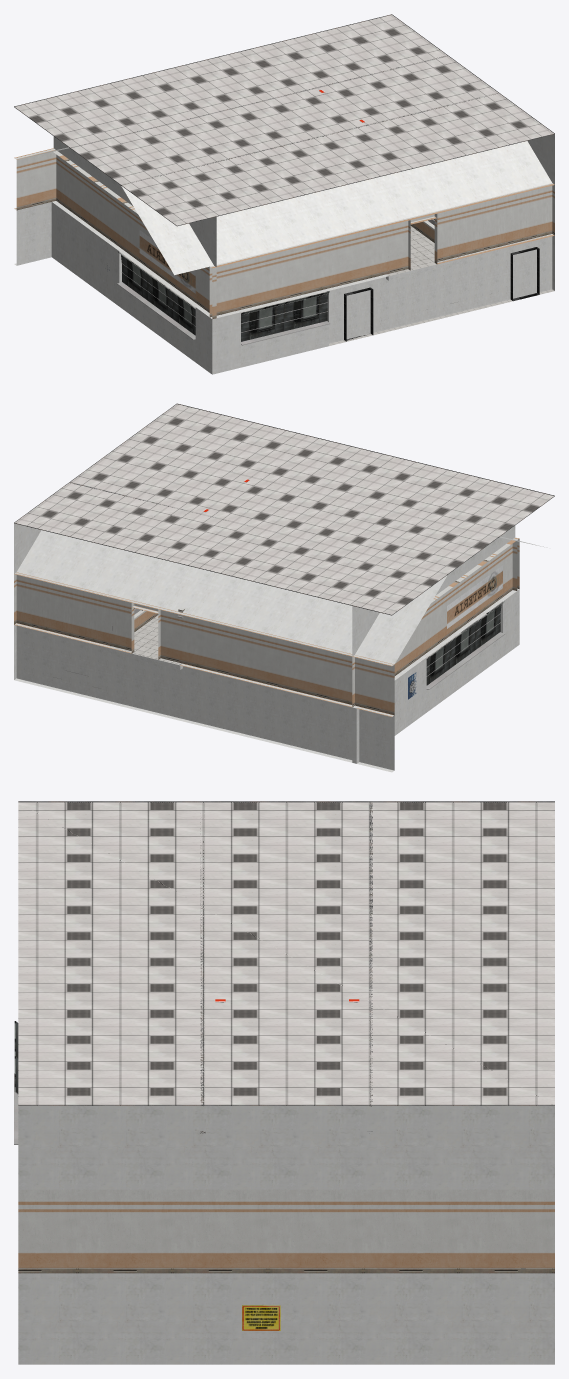
The model's file is Cafeteria.fbx.
The picture shows the model from 3 angles, top to bottom: view 1: azimuth 30°, elevation 25°; view 2: azimuth 150°, elevation 25°; view 3: azimuth 270°, elevation 25°; orthographic projection. The views are drawn at different scales.
Parts seen in each view (by area): view 1: classname_brush_003; view 2: classname_brush_003; view 3: classname_brush_003.
Boxes of the visible parts, bbox=[...] form: classname_brush_003: bbox=[14, 14, 554, 374]; classname_brush_003: bbox=[14, 403, 554, 772]; classname_brush_003: bbox=[14, 801, 554, 1364].
Bounding box in the file's own units: 2837 × 1116 × 2110.
